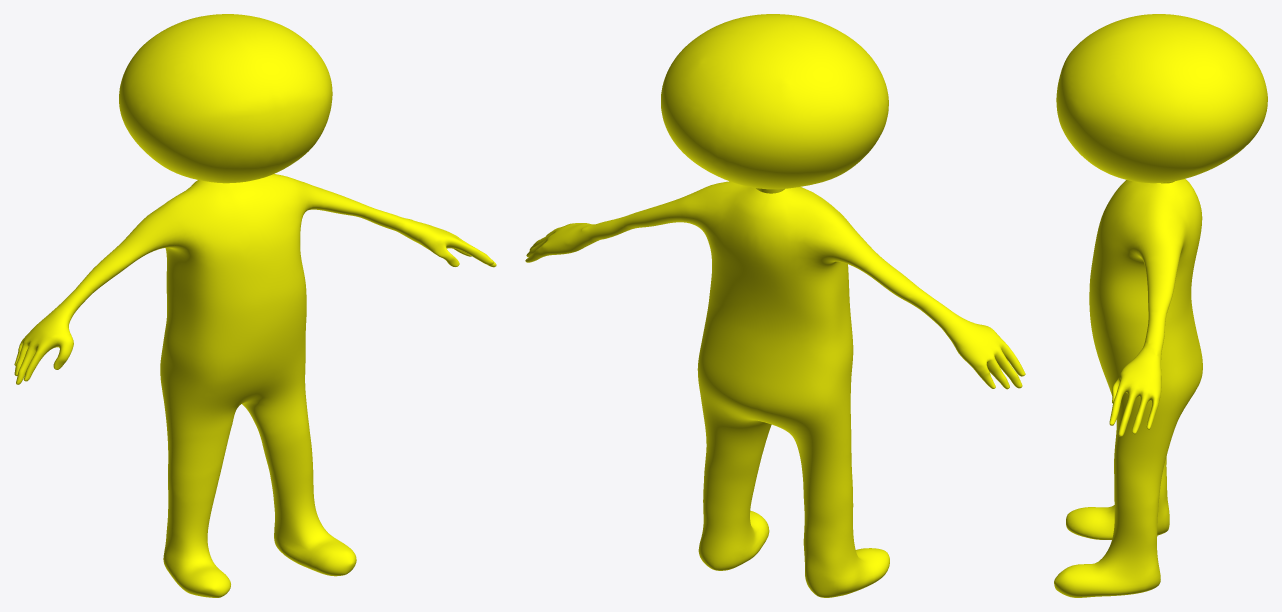
The model's file is stickman.gltf.
The picture shows the model from 3 angles, left to right: view 1: azimuth 30°, elevation 25°; view 2: azimuth 150°, elevation 25°; view 3: azimuth 270°, elevation 25°; orthographic projection. The views are drawn at different scales.
Parts seen in each view (by area): view 1: Object_2.001; view 2: Object_2.001; view 3: Object_2.001.
Boxes of the visible parts, bbox=[...] form: Object_2.001: bbox=[14, 14, 496, 597]; Object_2.001: bbox=[525, 14, 1025, 597]; Object_2.001: bbox=[1054, 14, 1267, 597].
Size of the model in its own units: 58.66 by 63.04 by 22.89.
